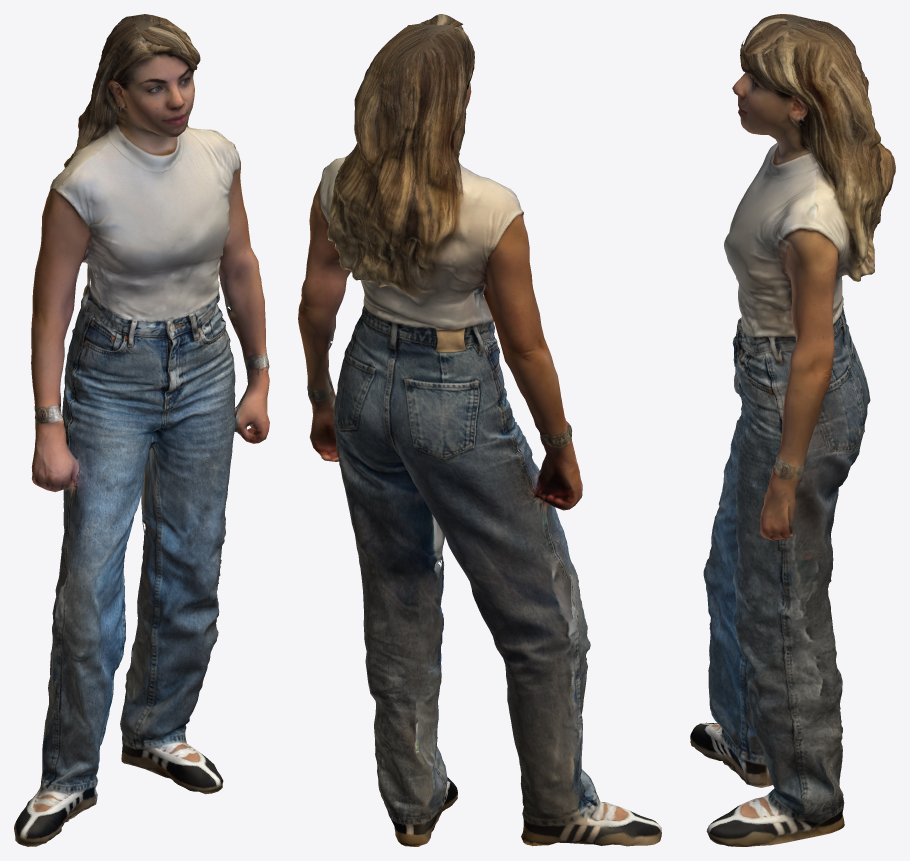
File: Ilaria.glb
3 renders of one model, left to right at view 1: azimuth 30°, elevation 25°; view 2: azimuth 150°, elevation 25°; view 3: azimuth 270°, elevation 25°, orthographic. The views are drawn at different scales.
Visible parts, largest first — view 1: Ilaria; view 2: Ilaria; view 3: Ilaria.
Part boxes in pixels (bbox=[...]): Ilaria: bbox=[14, 14, 269, 846]; Ilaria: bbox=[298, 14, 661, 846]; Ilaria: bbox=[690, 14, 895, 846].
Bounding box in the file's own units: 0.853 × 2.11 × 0.4896.
1 material, 1 textured.
